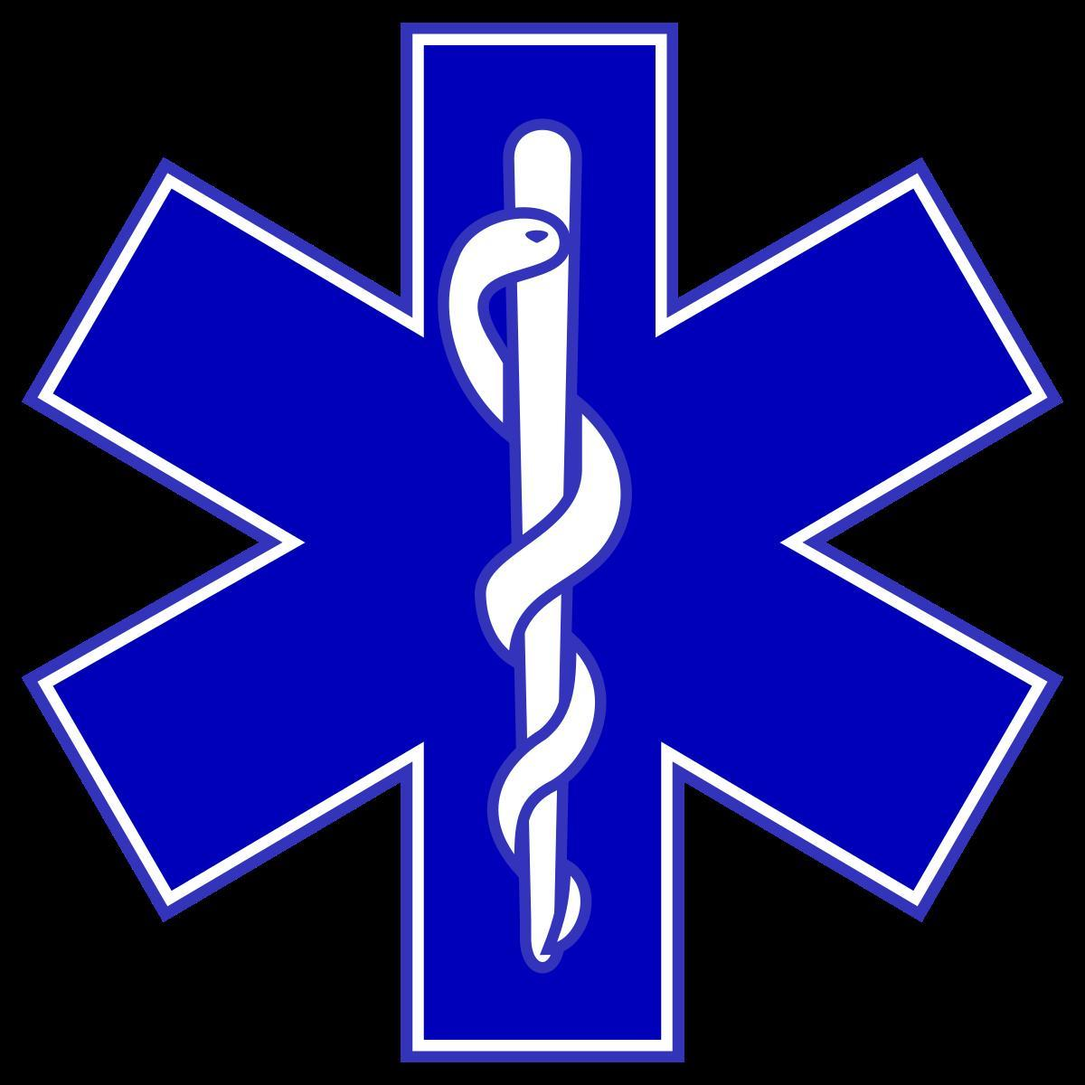Ambulance: (21, 9, 1064, 1079)
